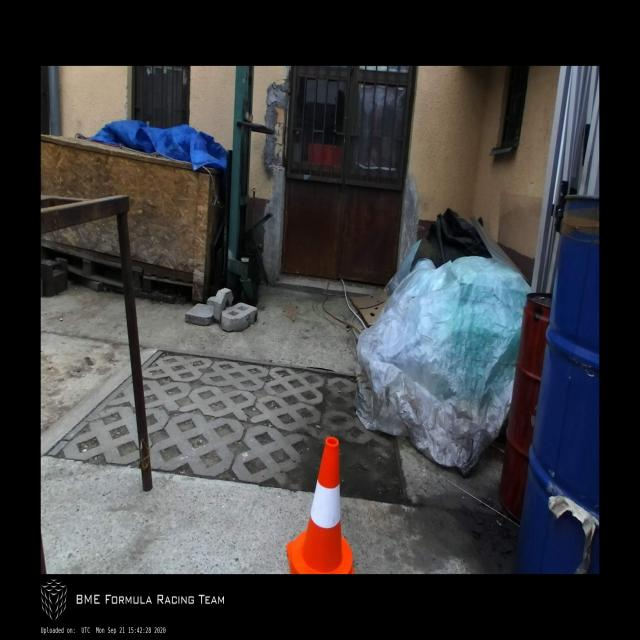orange_cone: (286, 436, 356, 574)
